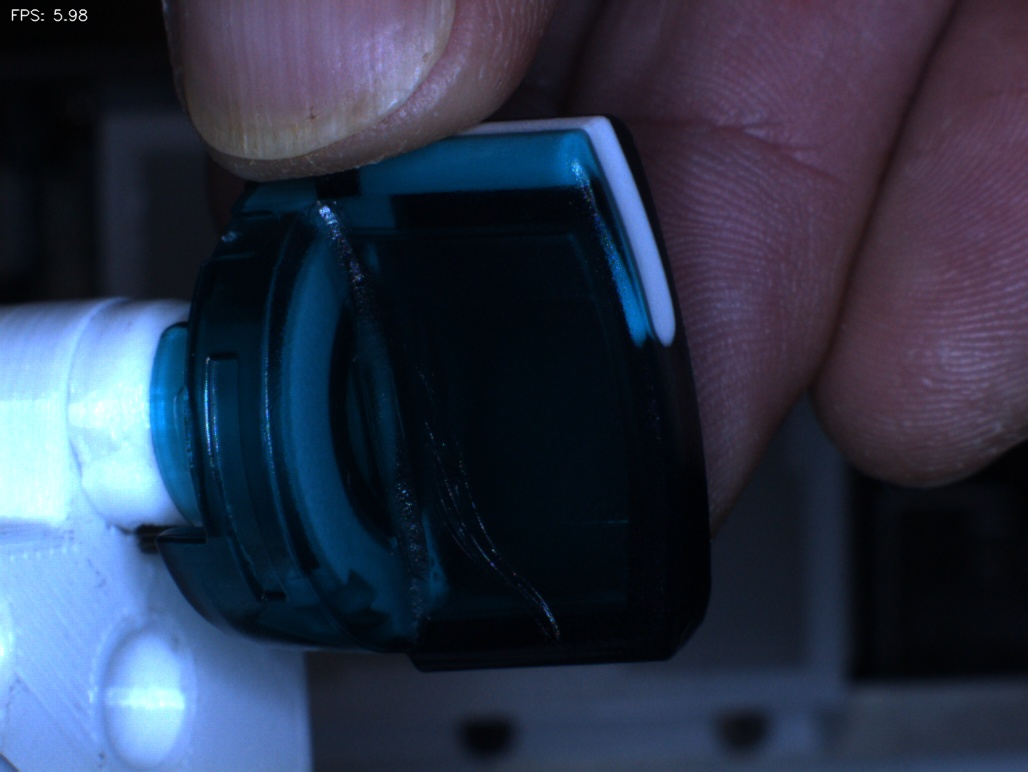Givrage: (423, 435, 568, 654)
